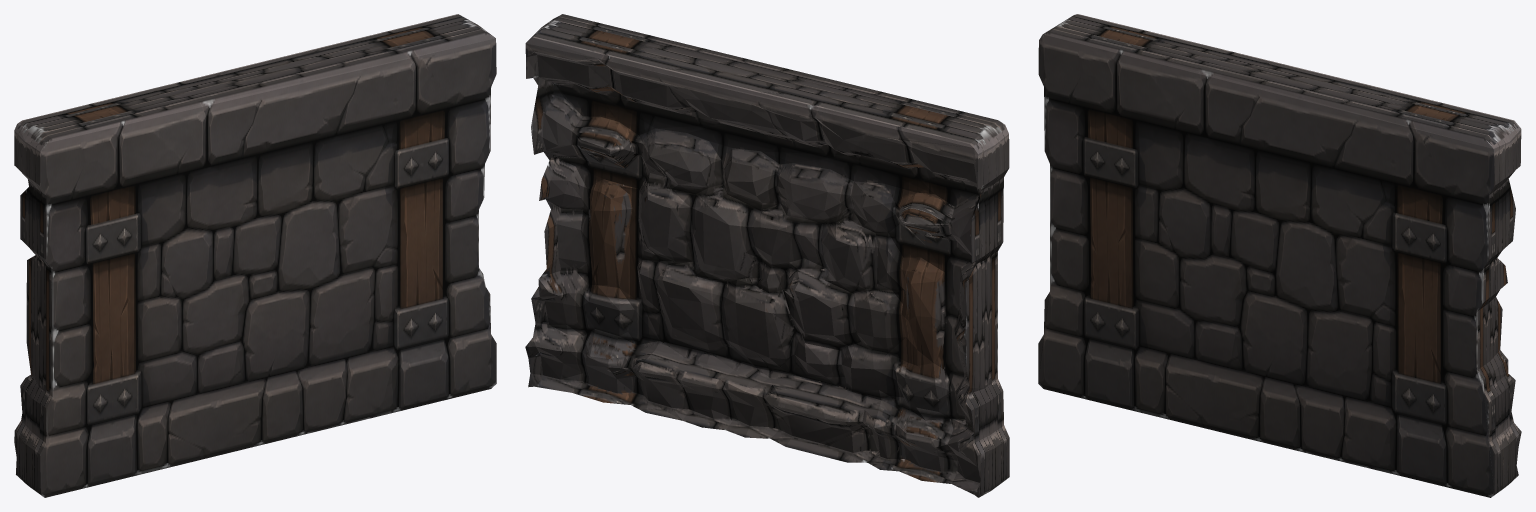
Rendered from SM_Dungeon_Wall_A_LOD0.fbx.
3 renders of one model, left to right at view 1: azimuth 30°, elevation 25°; view 2: azimuth 150°, elevation 25°; view 3: azimuth 330°, elevation 25°, orthographic.
Visible parts, largest first — view 1: SM_Dungeon_Wall_A_LOD0; view 2: SM_Dungeon_Wall_A_LOD0; view 3: SM_Dungeon_Wall_A_LOD0.
Boxes of the visible parts, x1,y1,x2,y2 form: SM_Dungeon_Wall_A_LOD0: (14, 14, 496, 497); SM_Dungeon_Wall_A_LOD0: (525, 14, 1009, 497); SM_Dungeon_Wall_A_LOD0: (1038, 14, 1521, 497).
Bounding box in the file's own units: 4 × 3 × 0.4582.
